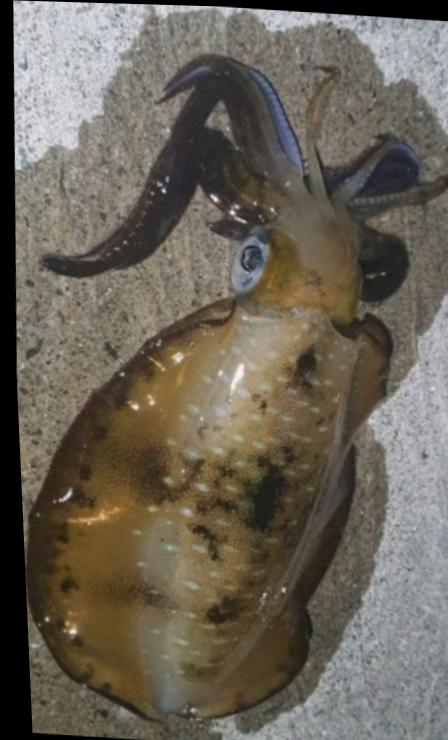Cephalopod: (21, 55, 448, 721)
